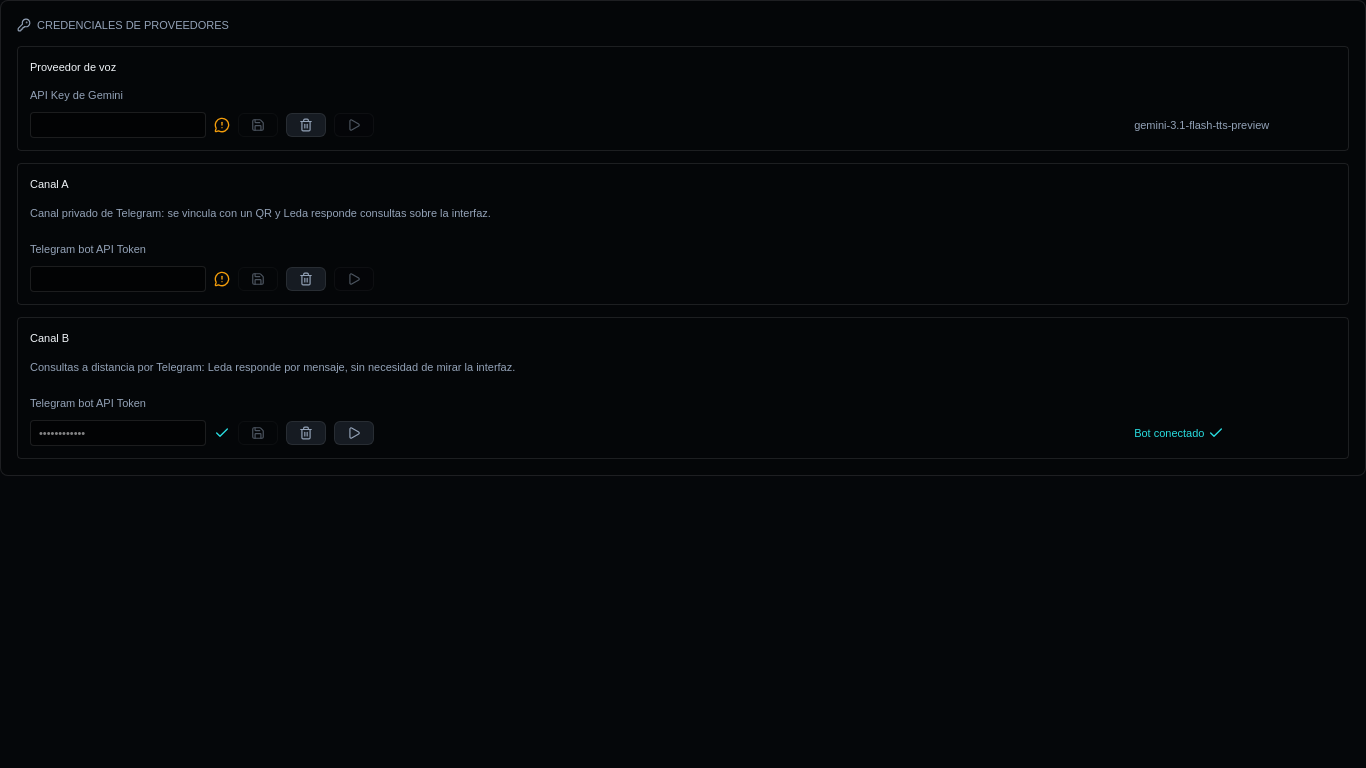
Test: VoiceCredentialSettings › saves and deletes the channel A credential on its exact provider without cross-clearing other drafts
The image size is (1366, 768).
Expected: the field labelled "Telegram bot API Token" below "Canal A" is enabled, [30,266,206,292]
Type "gemini-draft" into the field labelled "API Key de Gemini". click: [118, 125]
box: [30,112,206,138]
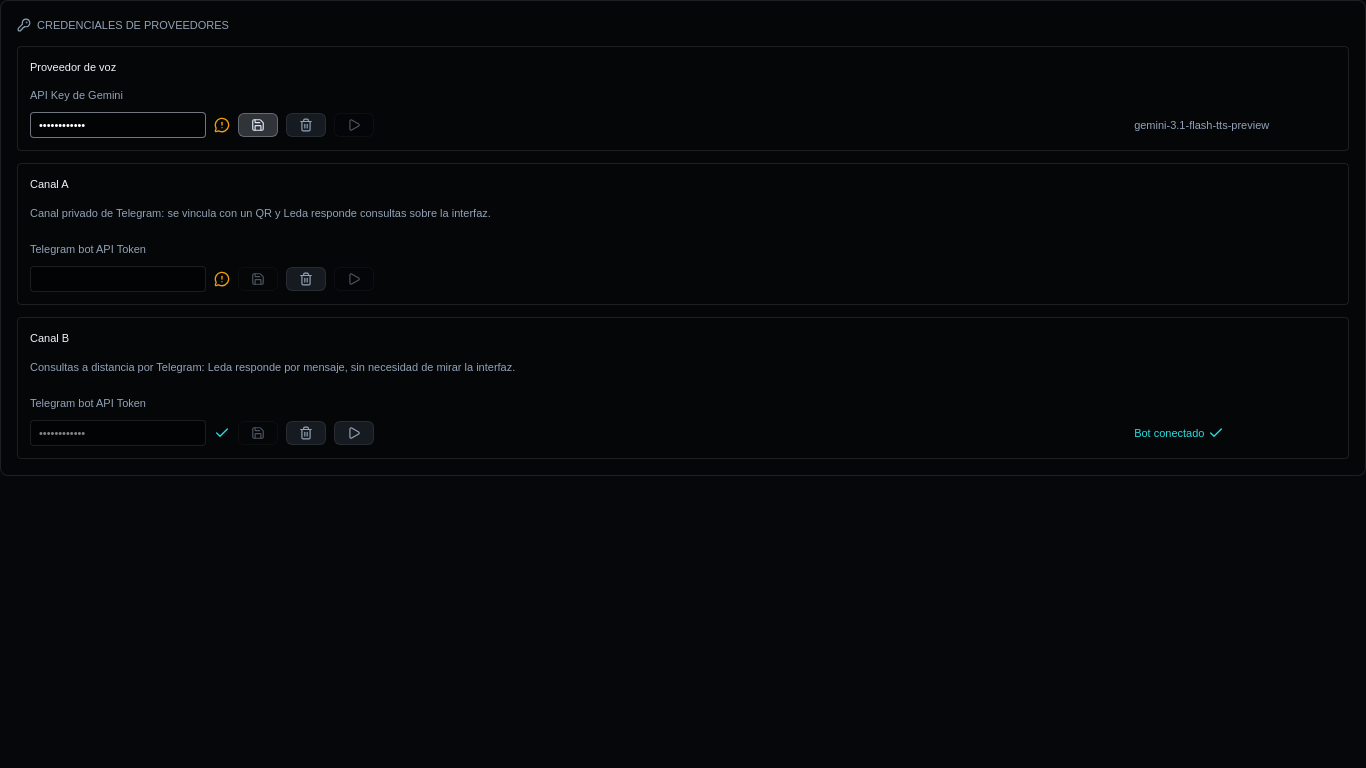
Type "telegram-draft" into the field labelled "Telegram bot API Token" in the row of "Bot conectado". click: [118, 433]
box: [30,420,206,446]
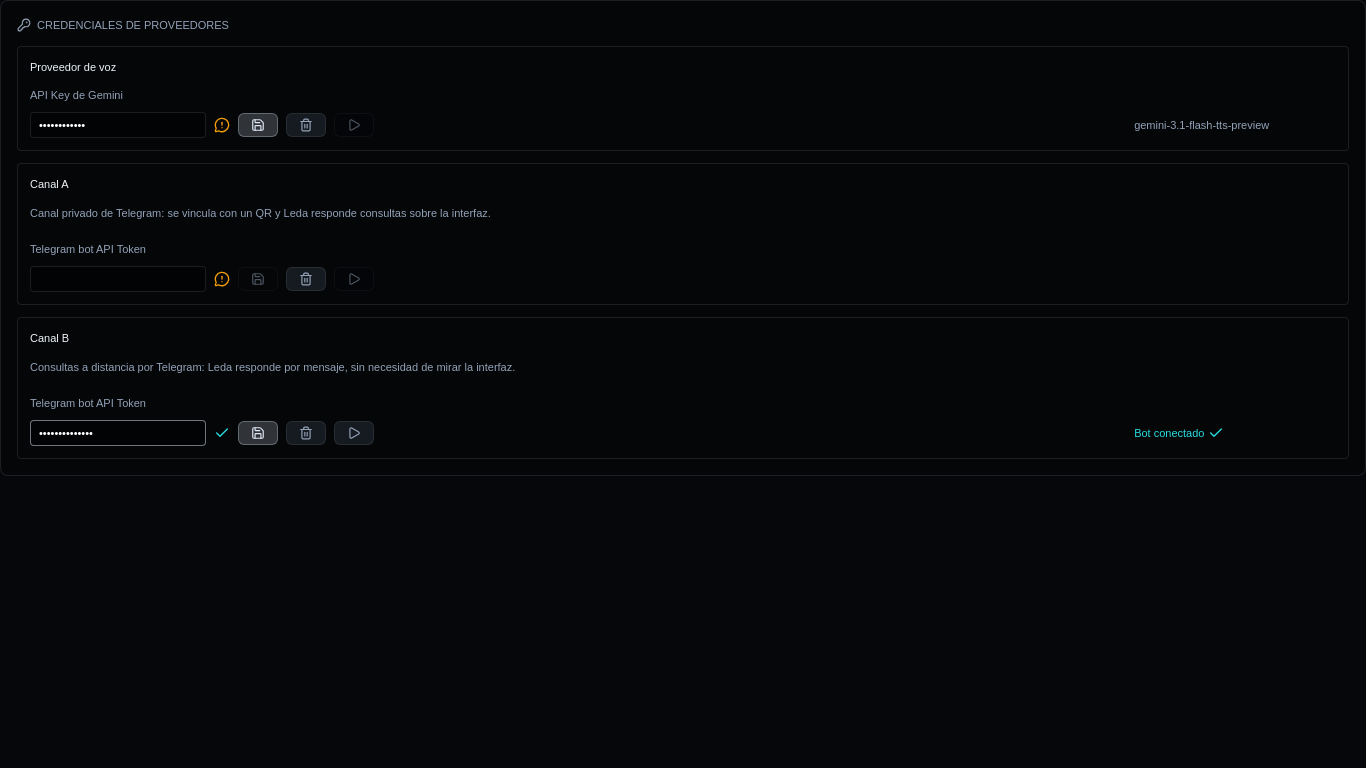
Type "channel-a-secret" into the field labelled "Telegram bot API Token" below "Canal A". click: [118, 279]
box: [30,266,206,292]
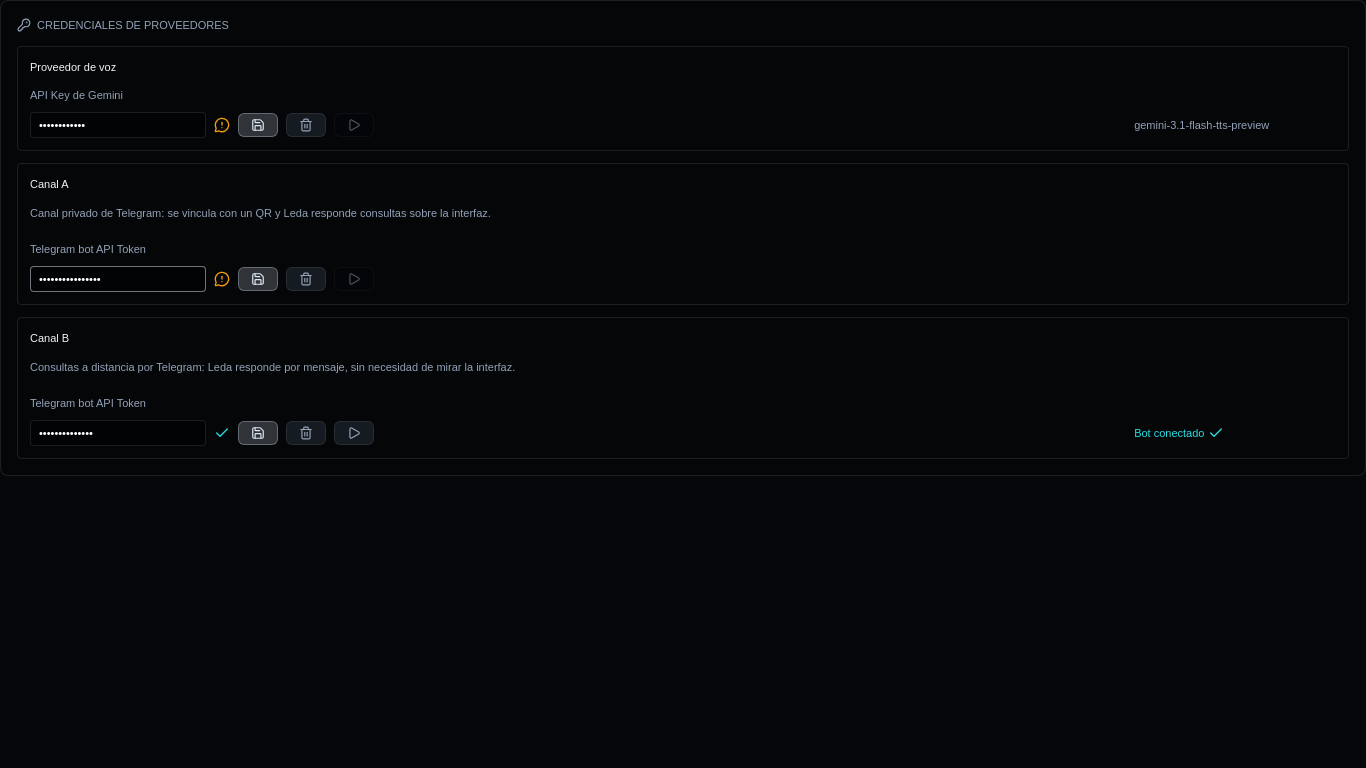
Click the button named "Guardar credencial" below "Canal A". click: [258, 279]
box: [238,267,278,291]
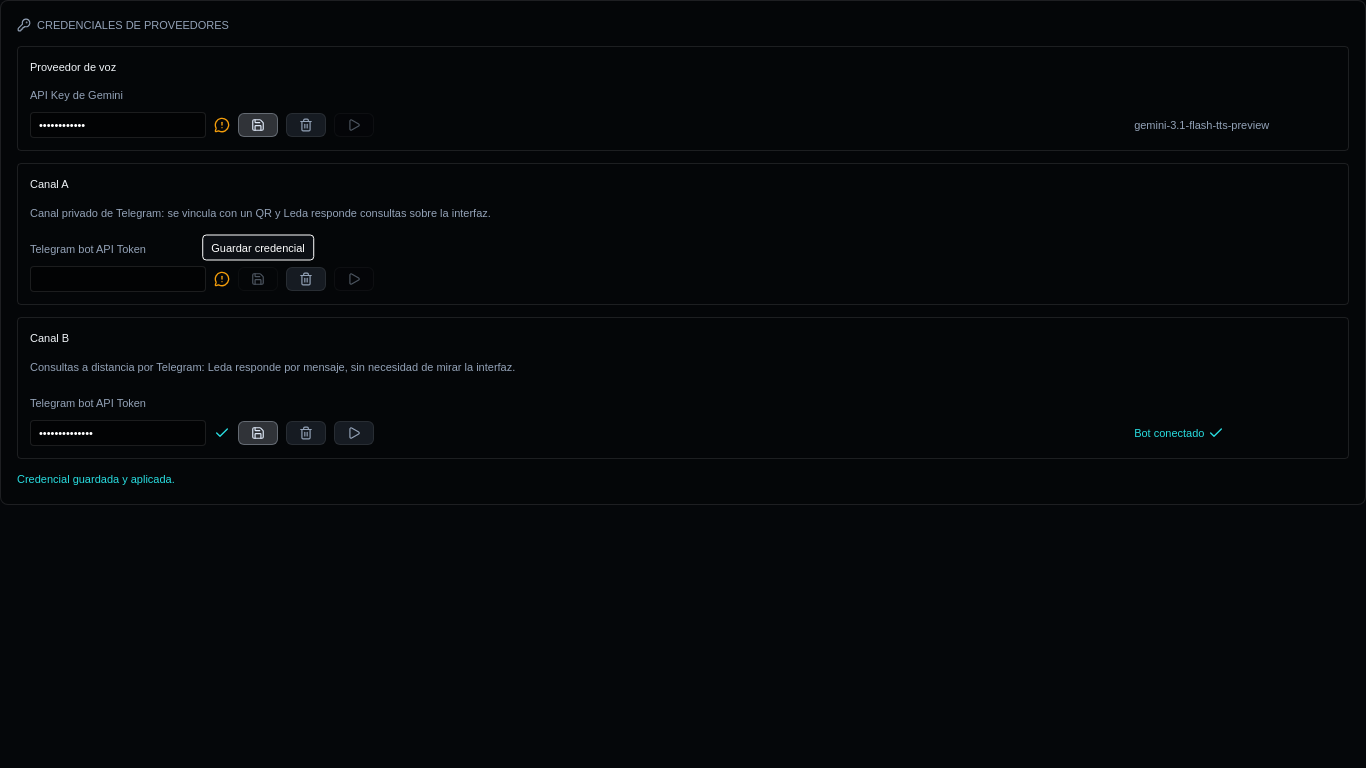
Result: the text "Credencial guardada y aplicada." is shown at [17,473,175,485]
Result: the field labelled "Telegram bot API Token" below "Canal A" is empty at [30,266,206,292]
Click the button named "Eliminar credencial" below "Canal A". click: [306, 279]
box: [286,267,326,291]
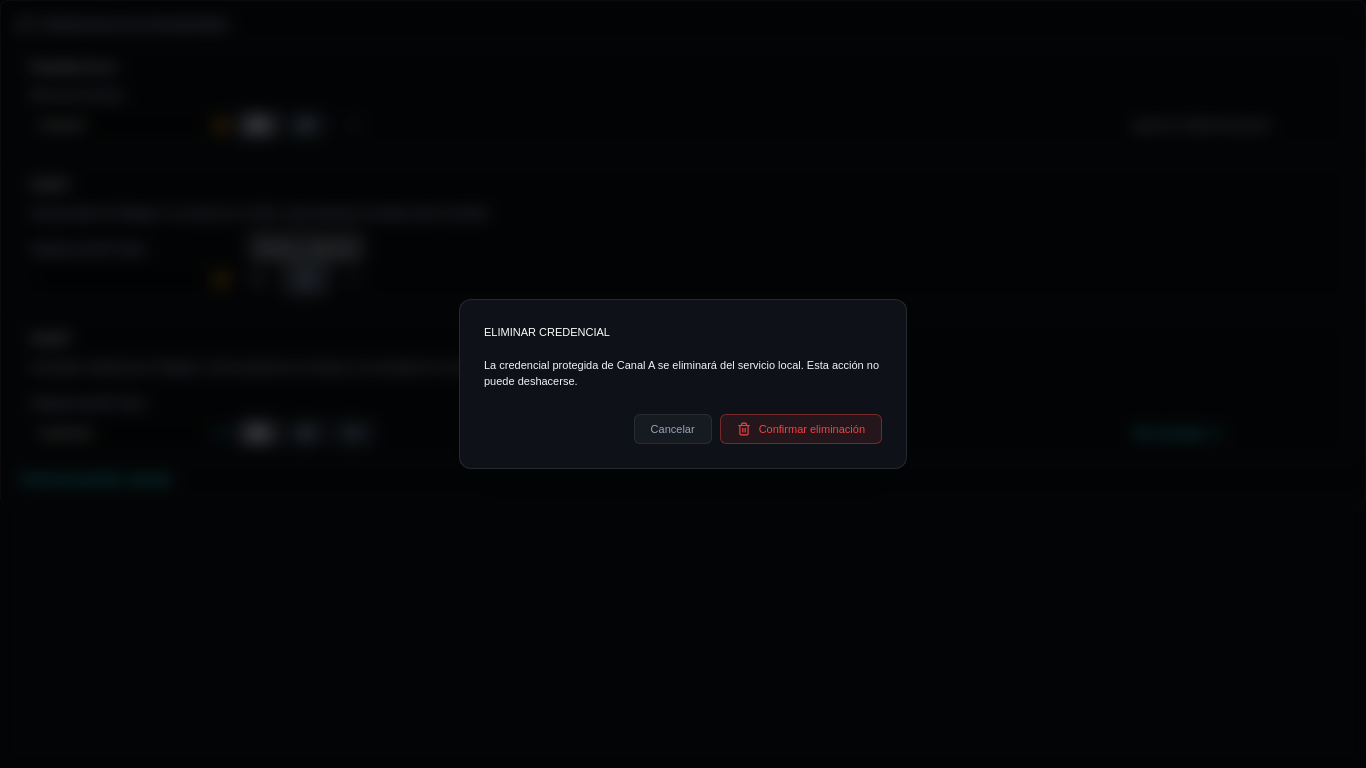
Result: the text "La credencial protegida de Canal A se eliminará del servicio local. Esta acción no puede deshacerse." is shown at [484,358,879,387]
Click the button "Confirmar eliminación". click: [801, 429]
box: [720,414,882,444]
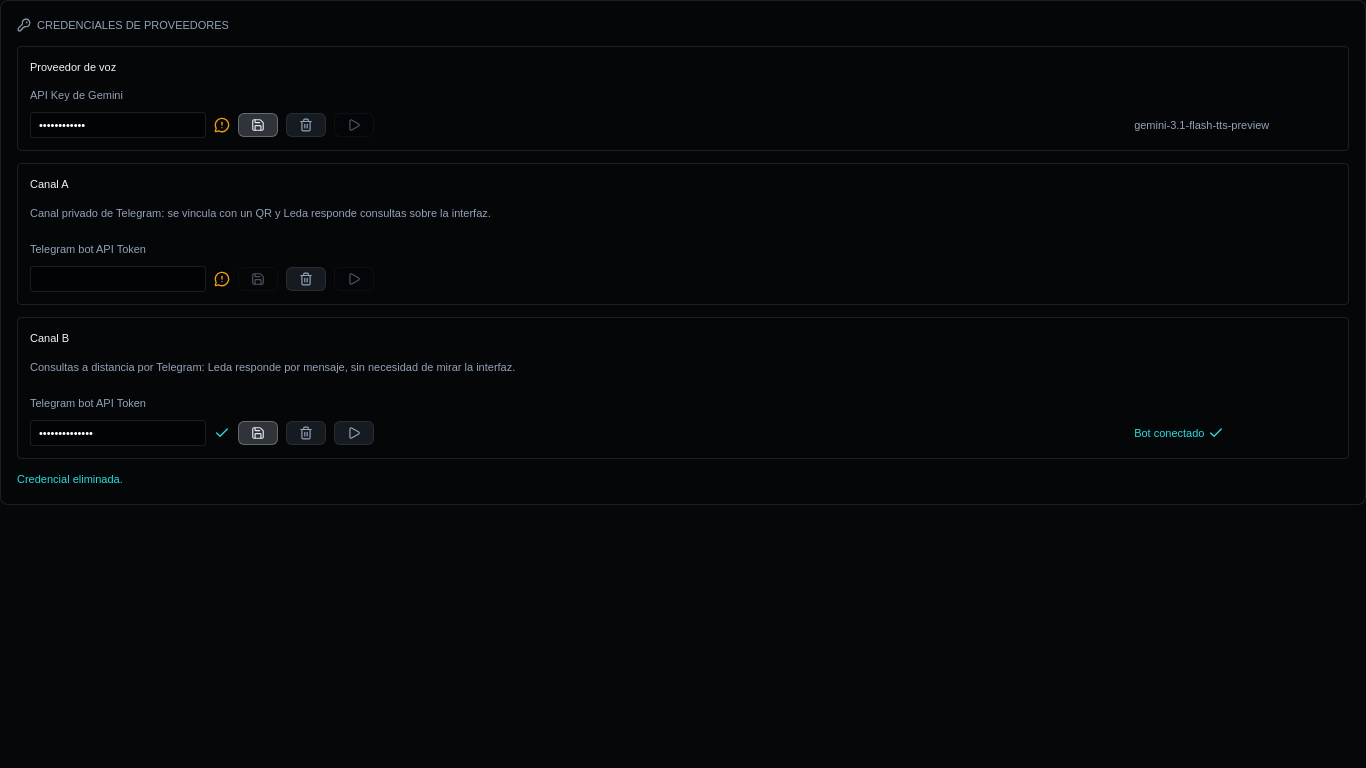
Result: the text "Credencial eliminada." is shown at [17,473,123,485]
